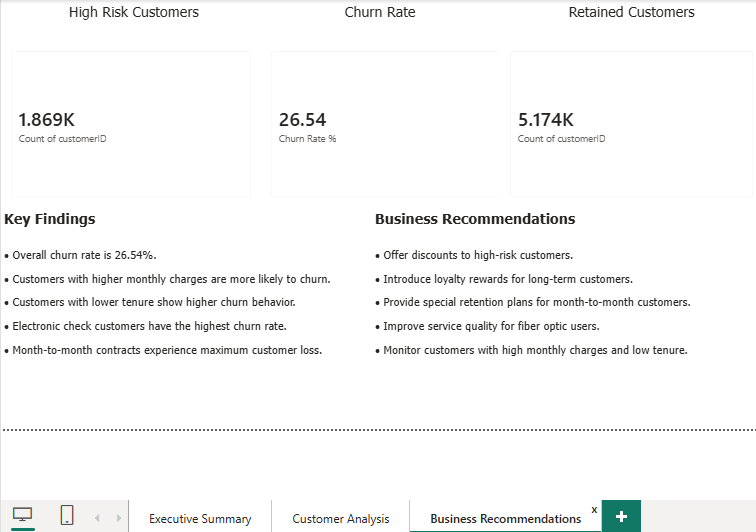

The dashboard page shown, as its layout file describes it:
{"tool":"powerbi","page":{"name":"Business Recommendations","canvas":[1280,720],"ordinal":2},"visuals":[{"type":"cardVisual","fields":{"Data":["CountNonNull(WA_Fn-UseC_-Telco-Customer-Churn.customerID)"]},"box":[0,68.5,437.2,279.2],"z":0},{"type":"textbox","box":[623.3,0,279.2,280.9],"z":1000},{"type":"textbox","box":[10.5,0,426.7,68.5],"z":2000},{"type":"textbox","box":[437.2,0,400.3,68.5],"z":3000},{"type":"cardVisual","fields":{"Data":["WA_Fn-UseC_-Telco-Customer-Churn.Churn Rate %"]},"box":[437.2,68.5,465.3,279.2],"z":4000},{"type":"cardVisual","fields":{"Data":["CountNonNull(WA_Fn-UseC_-Telco-Customer-Churn.customerID)"]},"box":[837.5,68.5,442.5,279.2],"z":5000},{"type":"textbox","box":[837.5,0,442.5,68.5],"z":6000},{"type":"textbox","box":[0,347.7,623.3,372.2],"z":7000},{"type":"textbox","box":[623.3,347.7,656.7,372.2],"z":8000}]}

Visuals, with their boxes on the page's 1280x720 design canvas (x1, y1, x2, y2). These are canvas units, not pixel positions in the 756x532 screenshot, which may show the page scaled, cropped or inside an application window:
cardVisual - CountNonNull(WA_Fn-UseC_-Telco-Customer-Churn.customerID): <box>0,68,437,348</box>
textbox: <box>623,0,902,281</box>
textbox: <box>10,0,437,68</box>
textbox: <box>437,0,838,68</box>
cardVisual - WA_Fn-UseC_-Telco-Customer-Churn.Churn Rate %: <box>437,68,902,348</box>
cardVisual - CountNonNull(WA_Fn-UseC_-Telco-Customer-Churn.customerID): <box>838,68,1280,348</box>
textbox: <box>838,0,1280,68</box>
textbox: <box>0,348,623,720</box>
textbox: <box>623,348,1280,720</box>
